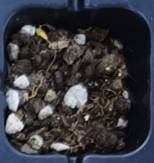chilli seed: (35, 27, 49, 40)
